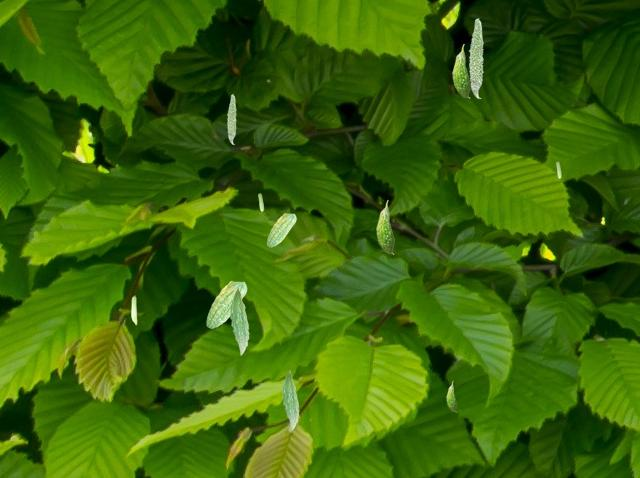ampalaya: (206, 280, 247, 329), (468, 17, 484, 99), (230, 287, 249, 355), (375, 199, 395, 254), (451, 43, 471, 98), (266, 212, 296, 247), (282, 370, 299, 431), (226, 93, 236, 145), (446, 380, 457, 412), (131, 294, 137, 325), (257, 193, 264, 211), (555, 161, 561, 178)
